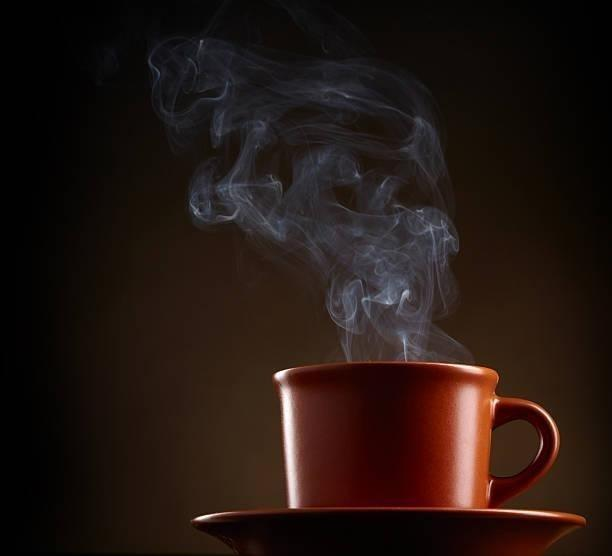cup-handle: (271, 359, 561, 511)
